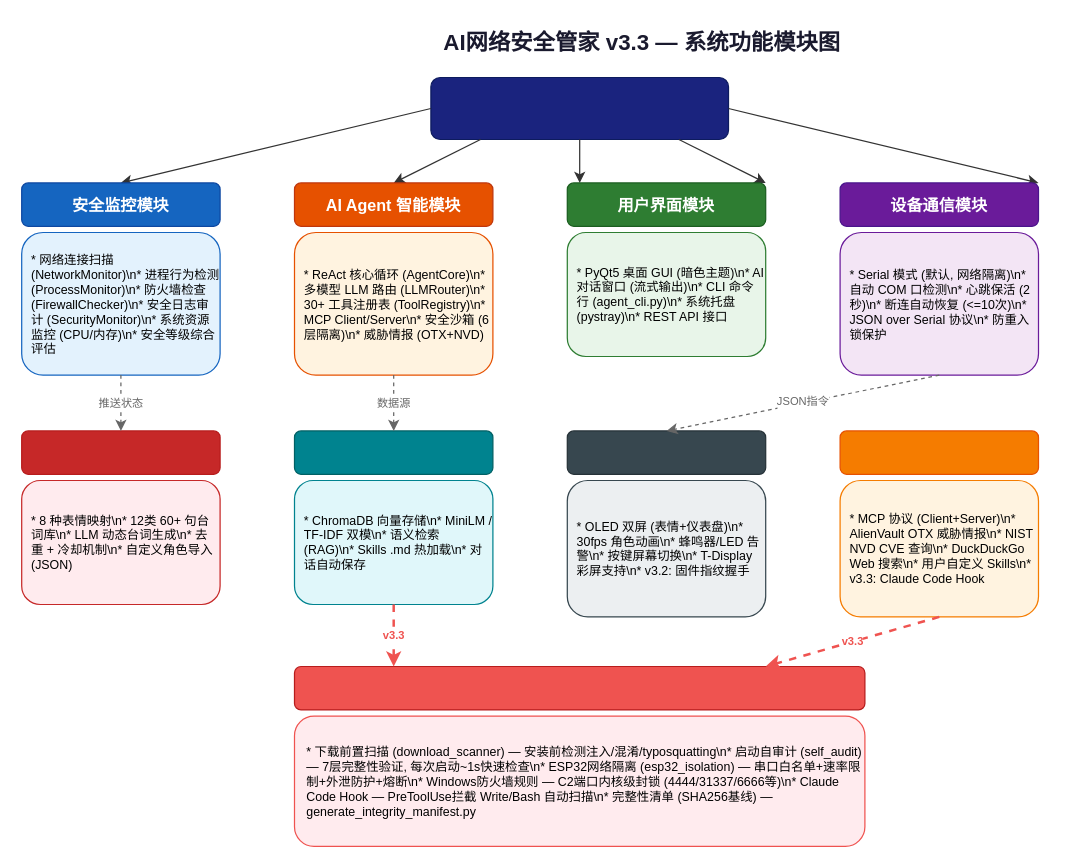
Some shapes in this 1070 by 868 pixel diagram are drawn without their labels. Each missing label, with the centre of its shape:
AI 网络安全管家: the point at 579,108
ESP32 固件: the point at 666,452
扩展能力: the point at 938,452
知识库 & Skills: the point at 393,452
纵深防御模块 [v3.3 新增]: the point at 579,687
角色陪伴系统: the point at 120,452
